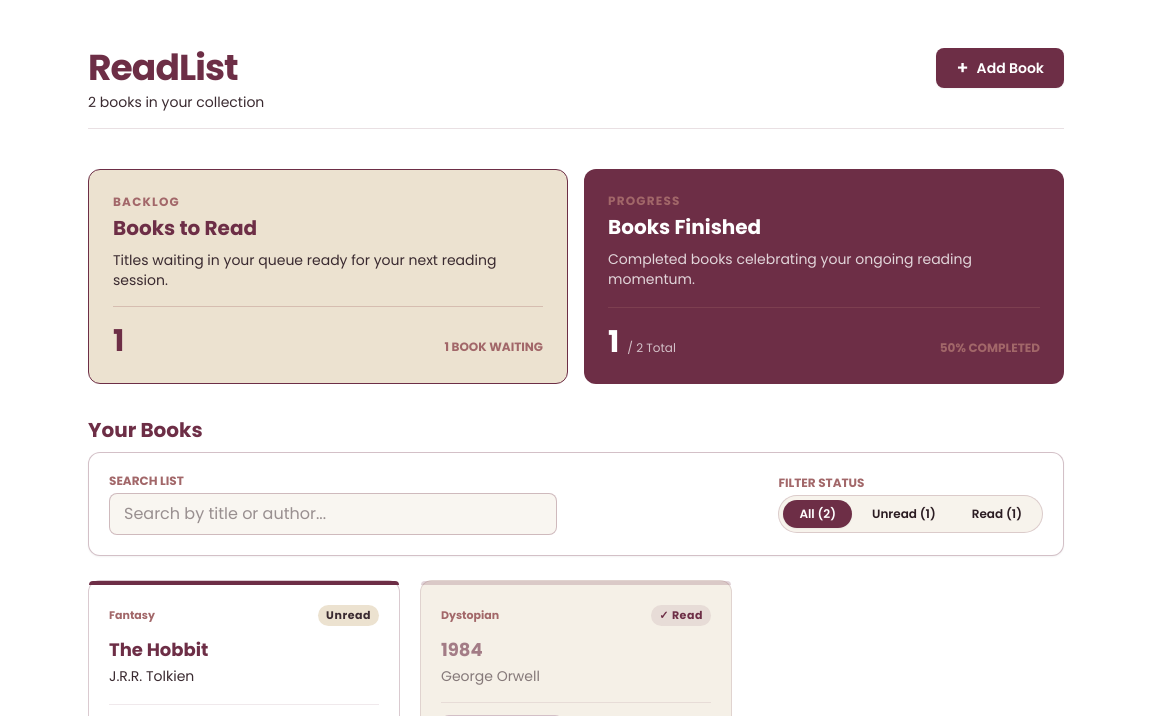
Test: App Component Integration & Gate Tests › opens modal, adds a book, and renders it in the list without page reload
Expected: the heading "The Hobbit" is shown, x1=109 y1=636 x2=208 y2=662
# Open the modal
Click the button "+ Add Book" at (1000, 68), box x1=936 y1=48 x2=1064 y2=88
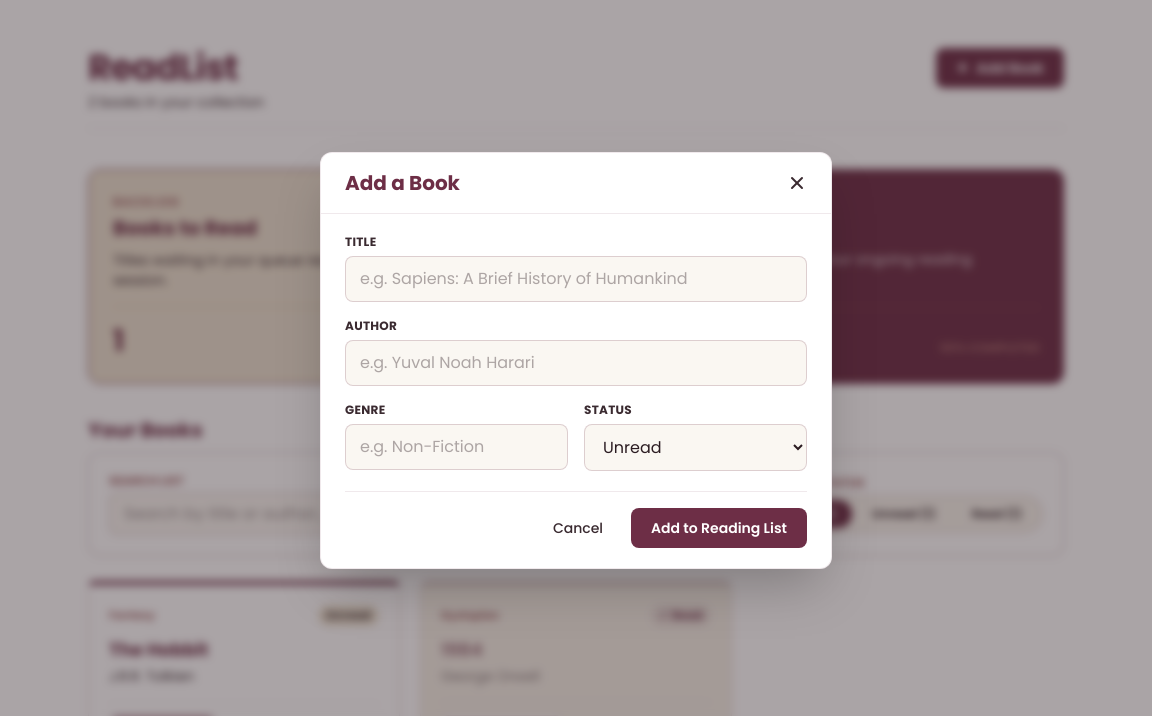
Expected: the field labelled "Title" is shown
Type "Brave New World" into the field labelled "Title" at (576, 278), box x1=345 y1=256 x2=807 y2=302
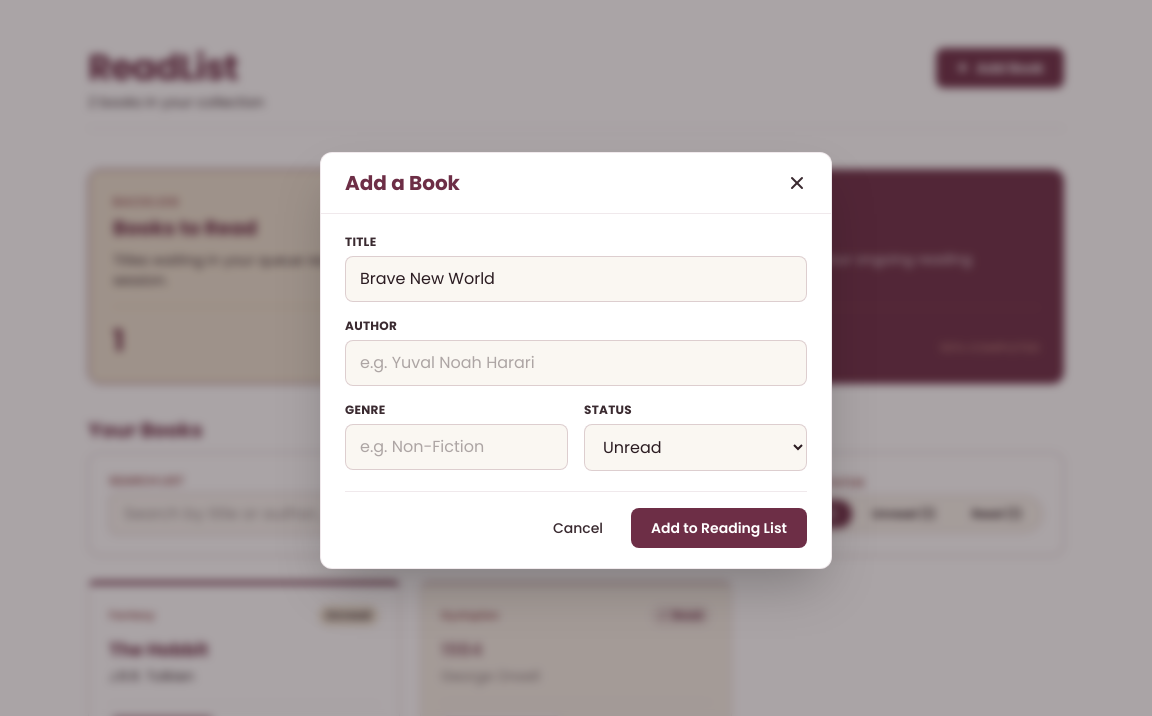
Type "Aldous Huxley" into the field labelled "Author" at (576, 362), box x1=345 y1=340 x2=807 y2=386
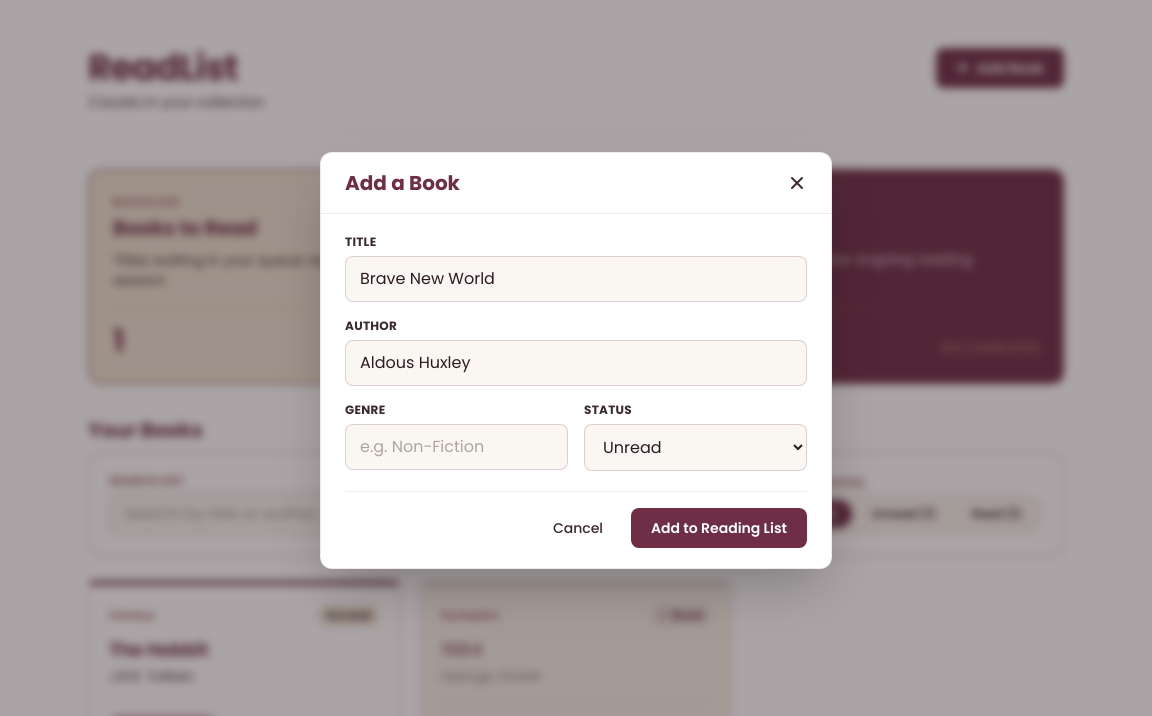
Type "Sci-Fi" into the field labelled "Genre" at (456, 446), box x1=345 y1=424 x2=568 y2=470
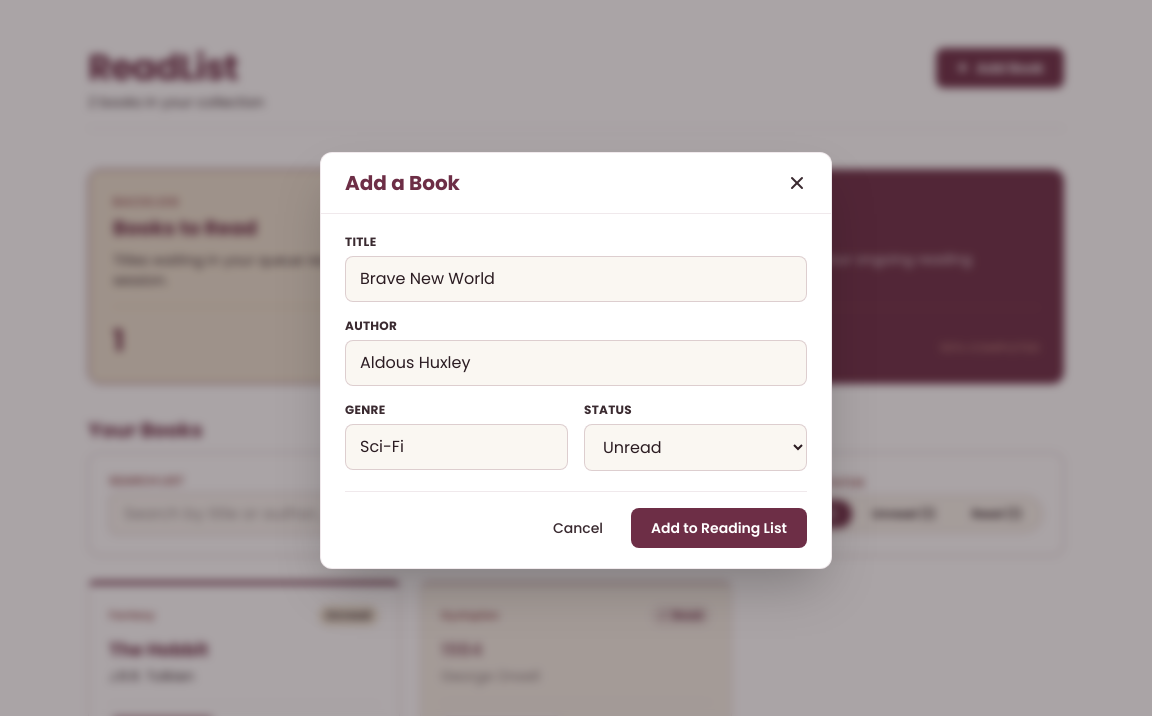
Click the button "Add to Reading List" at (719, 528), box x1=631 y1=508 x2=807 y2=548
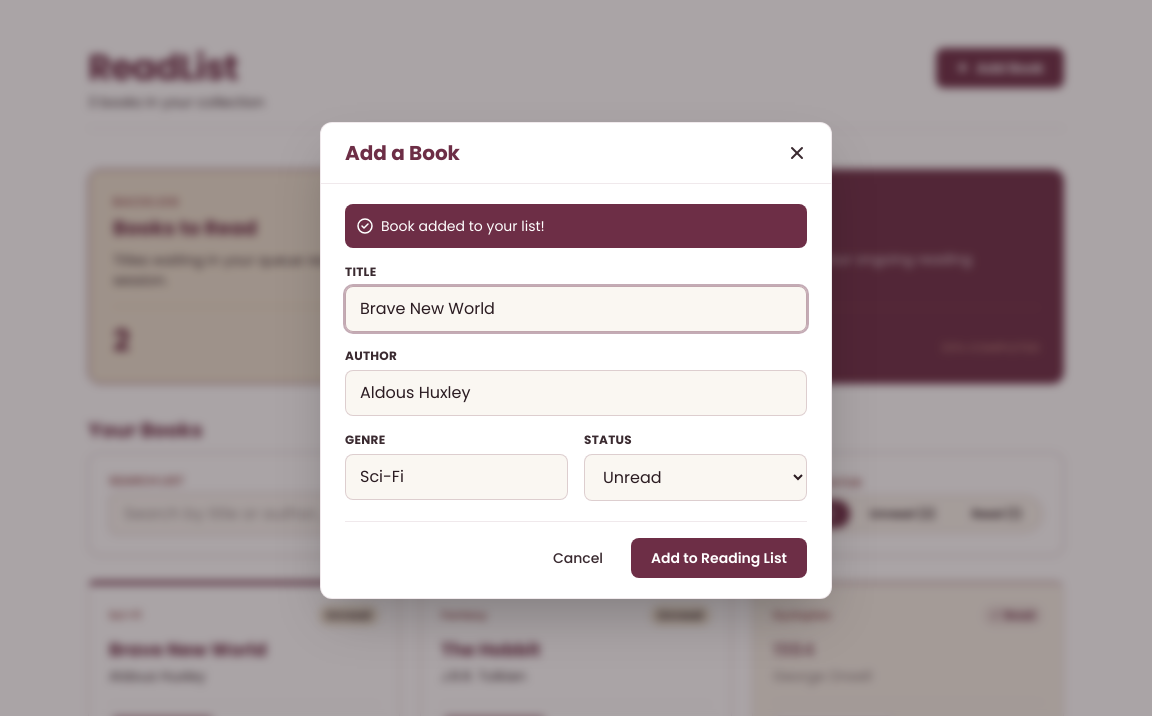
Expected: the heading "Brave New World" is shown, x1=109 y1=636 x2=267 y2=662
